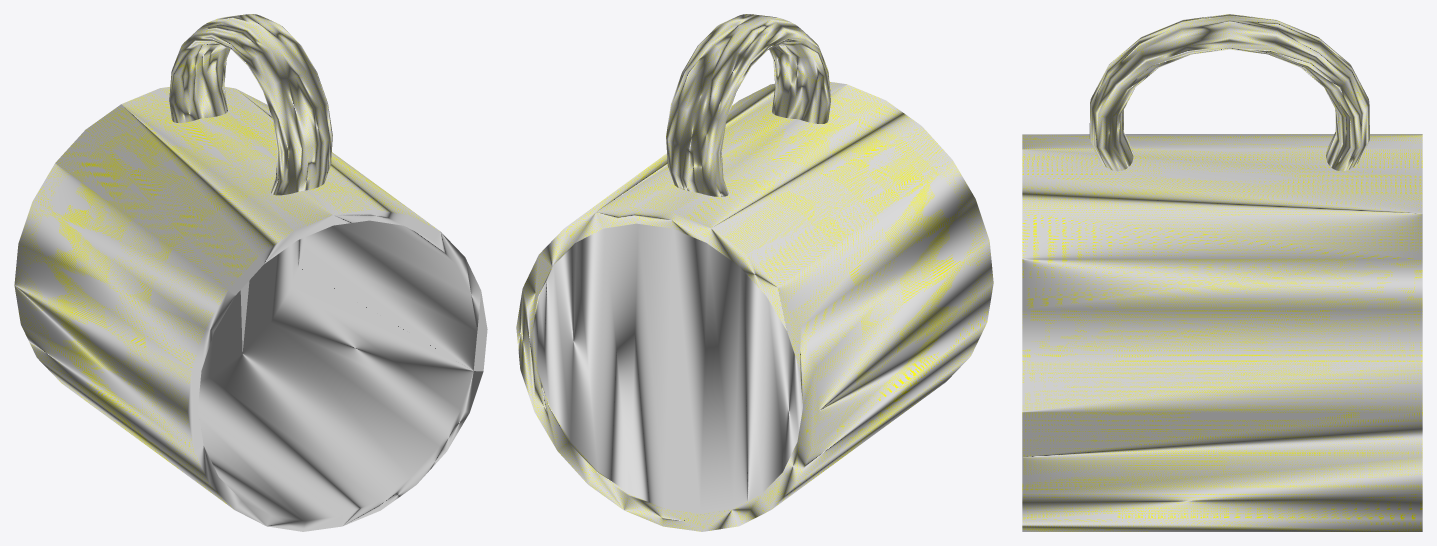
The model's file is model_align.obj.
3 views of the same model, side by side, from view 1: azimuth 30°, elevation 25°; view 2: azimuth 150°, elevation 25°; view 3: azimuth 270°, elevation 25° (orthographic). The views are drawn at different scales.
Size of the model in its own units: 0.0801 by 0.1106 by 0.0801.
